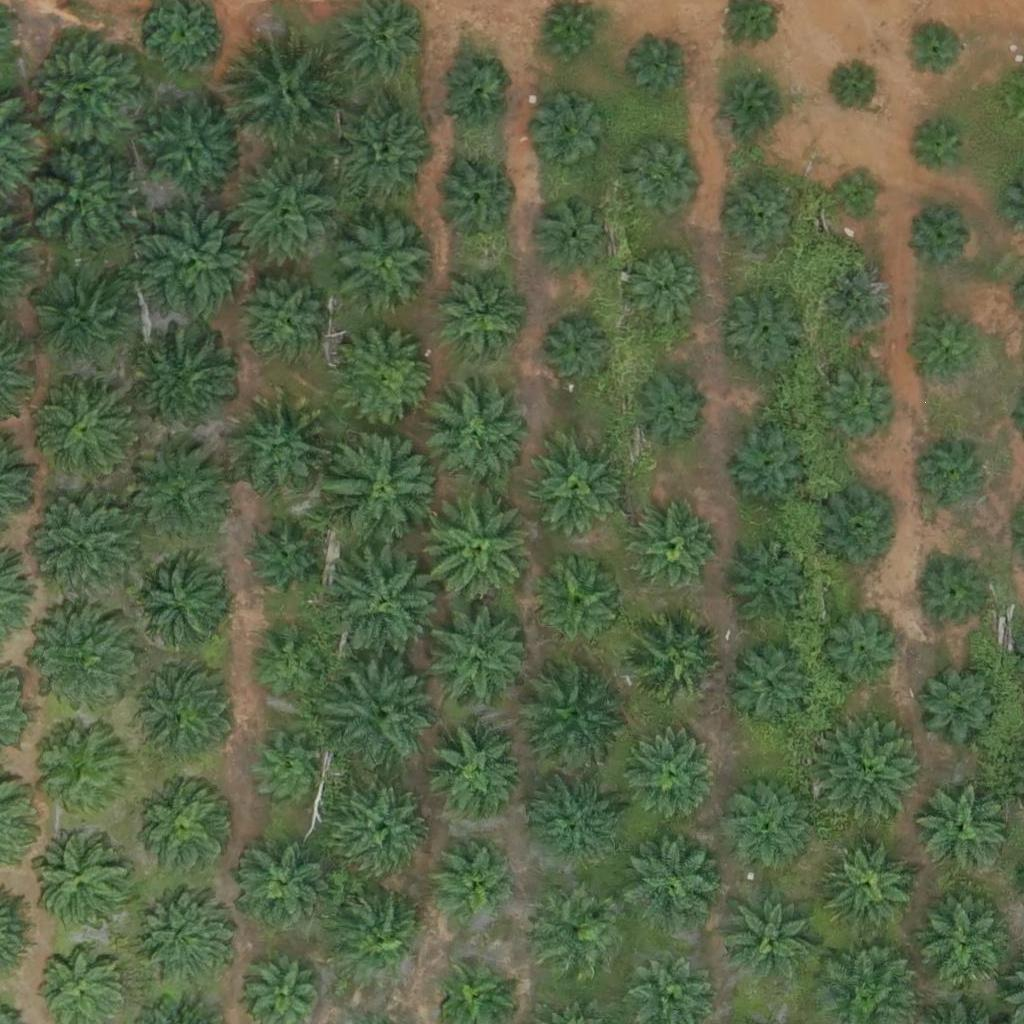Kelapa_Sawit: (27, 26, 152, 152), (15, 137, 140, 263), (20, 484, 145, 610), (135, 201, 260, 327), (226, 27, 351, 153), (222, 150, 347, 276), (324, 426, 449, 552), (324, 539, 449, 665), (416, 486, 541, 612), (326, 656, 439, 769), (23, 608, 136, 721), (517, 659, 629, 773), (35, 273, 135, 374), (36, 374, 136, 475), (143, 329, 243, 430), (131, 434, 231, 535), (234, 397, 334, 498), (821, 719, 921, 820), (522, 882, 622, 983), (425, 719, 525, 820), (331, 777, 431, 878), (327, 893, 427, 994), (232, 836, 332, 937), (127, 551, 227, 652), (129, 663, 229, 764), (137, 775, 237, 876), (132, 880, 232, 981), (32, 720, 132, 821), (141, 98, 241, 198), (335, 106, 435, 206), (335, 213, 435, 313), (337, 330, 437, 430), (428, 386, 528, 486), (522, 437, 622, 537), (919, 895, 1019, 995), (715, 777, 815, 877), (625, 613, 725, 713), (619, 728, 719, 828), (623, 837, 723, 937), (430, 605, 530, 705), (31, 834, 130, 935), (722, 284, 810, 372), (817, 484, 905, 572), (437, 276, 525, 364), (726, 424, 814, 512), (914, 661, 1002, 749), (918, 787, 1006, 875), (728, 900, 816, 988), (535, 561, 623, 649), (529, 778, 617, 866), (432, 155, 519, 243), (243, 280, 330, 368), (631, 505, 718, 593), (726, 543, 813, 631), (824, 840, 911, 928), (728, 641, 815, 729), (626, 246, 701, 322), (536, 194, 611, 270), (541, 313, 616, 389), (630, 369, 705, 445), (436, 55, 511, 131), (534, 97, 609, 172), (627, 139, 702, 214), (725, 183, 800, 258), (253, 730, 328, 805), (252, 626, 327, 701), (919, 559, 994, 634), (907, 443, 982, 518), (817, 369, 892, 444), (245, 523, 320, 598), (824, 268, 899, 343), (825, 617, 900, 692), (434, 849, 509, 924), (720, 76, 783, 139), (917, 316, 980, 379), (539, 3, 601, 66), (629, 36, 691, 99), (904, 18, 966, 81), (908, 118, 970, 181), (908, 205, 970, 268), (834, 62, 884, 113), (833, 168, 883, 219)
